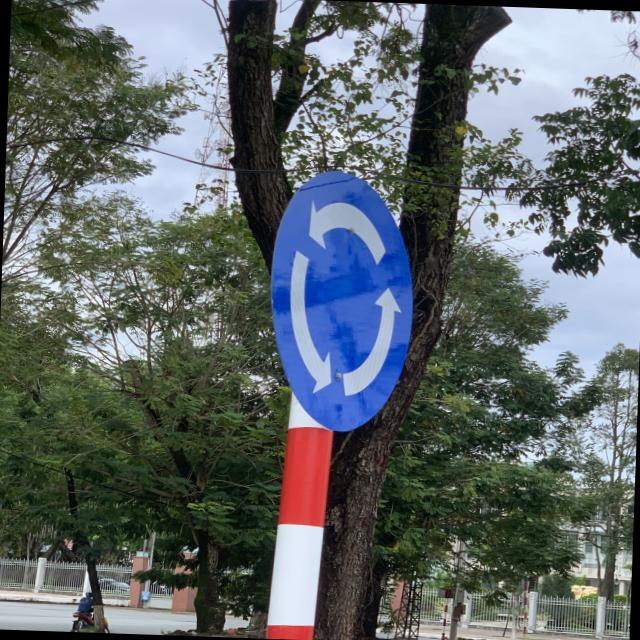Xe_Bus: (262, 166, 422, 435)
